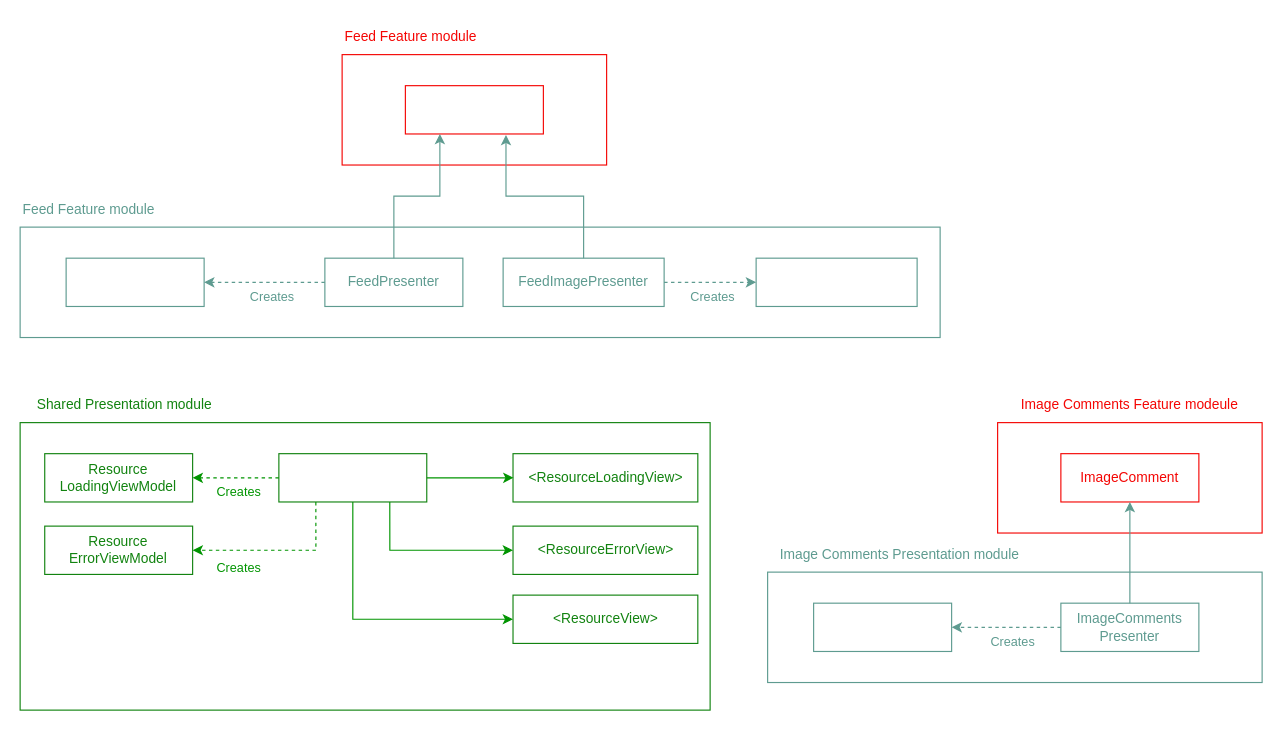
Some shapes in this 1282 by 730 pixel diagram are drawn without their labels. Each missing label, with the centre of its shape:
"FeedImage" goes at (x=473, y=109).
"FeedImageViewModel" goes at (x=836, y=281).
"FeedViewModel" goes at (x=134, y=281).
"ImageComments ViewModel" goes at (x=882, y=626).
"LoadResource Presenter" goes at (x=352, y=477).
